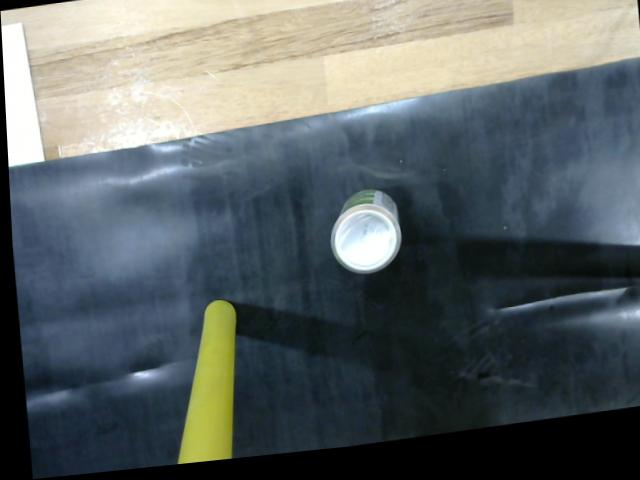can: (323, 194, 401, 284)
